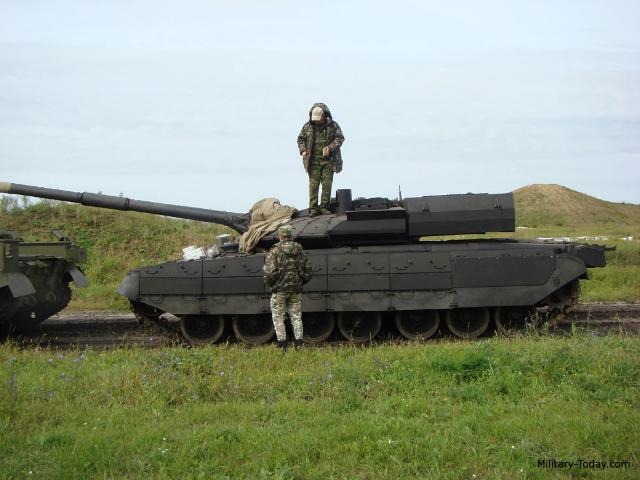other: (266, 225, 308, 343), (298, 104, 340, 206)
tank: (128, 195, 602, 327)
